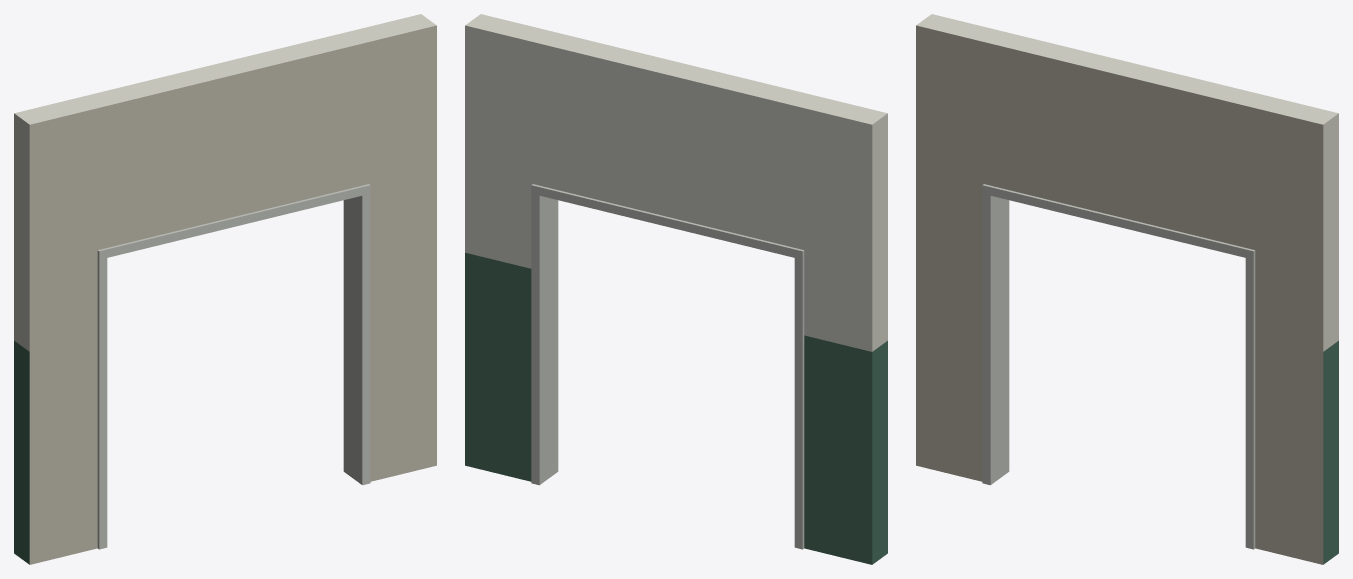
File: hosp_wall_door_double_ext.glb
3 renders of one model, left to right at view 1: azimuth 30°, elevation 25°; view 2: azimuth 150°, elevation 25°; view 3: azimuth 330°, elevation 25°, orthographic.
Visible parts, largest first — view 1: hosp_wall_door_double_ext-col; view 2: hosp_wall_door_double_ext-col; view 3: hosp_wall_door_double_ext-col.
Part boxes in pixels (bbox=[...]): hosp_wall_door_double_ext-col: bbox=[14, 14, 436, 564]; hosp_wall_door_double_ext-col: bbox=[465, 14, 887, 564]; hosp_wall_door_double_ext-col: bbox=[916, 14, 1338, 564].
Bounding box in the file's own units: 3 × 3.1 × 0.24.
